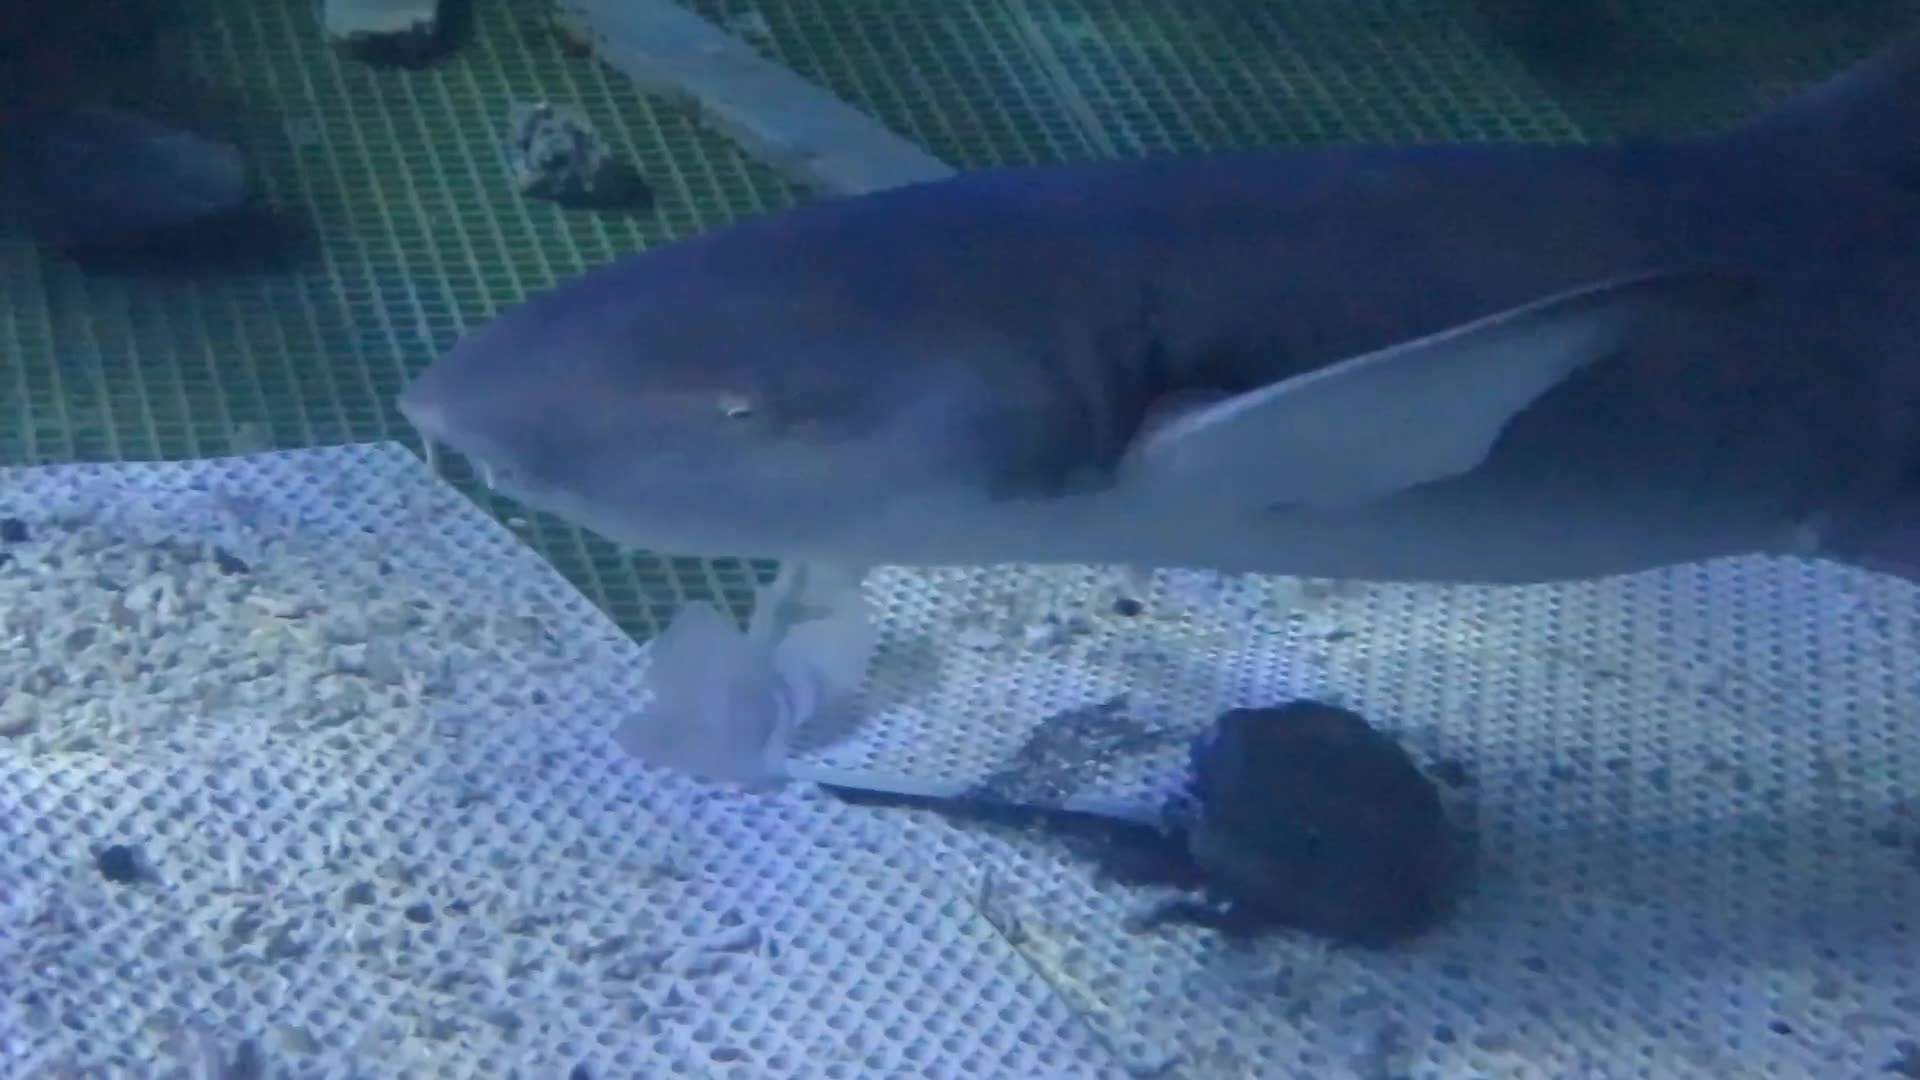Nebrius ferrugineus: (423, 144, 1920, 597)
